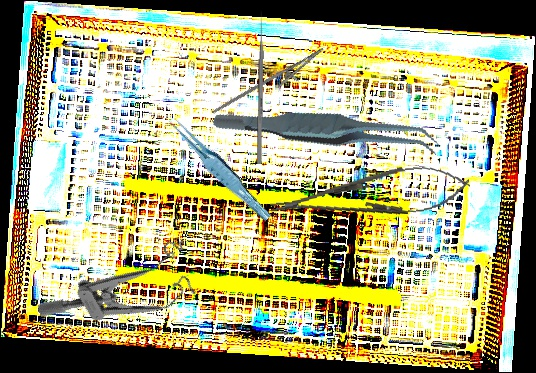Needle Holder: (267, 158, 473, 231), (211, 34, 330, 135)
Pusher: (256, 10, 265, 165)
Speculum: (35, 225, 210, 367)
Tissue Forceps: (211, 65, 443, 196), (166, 108, 273, 229)
